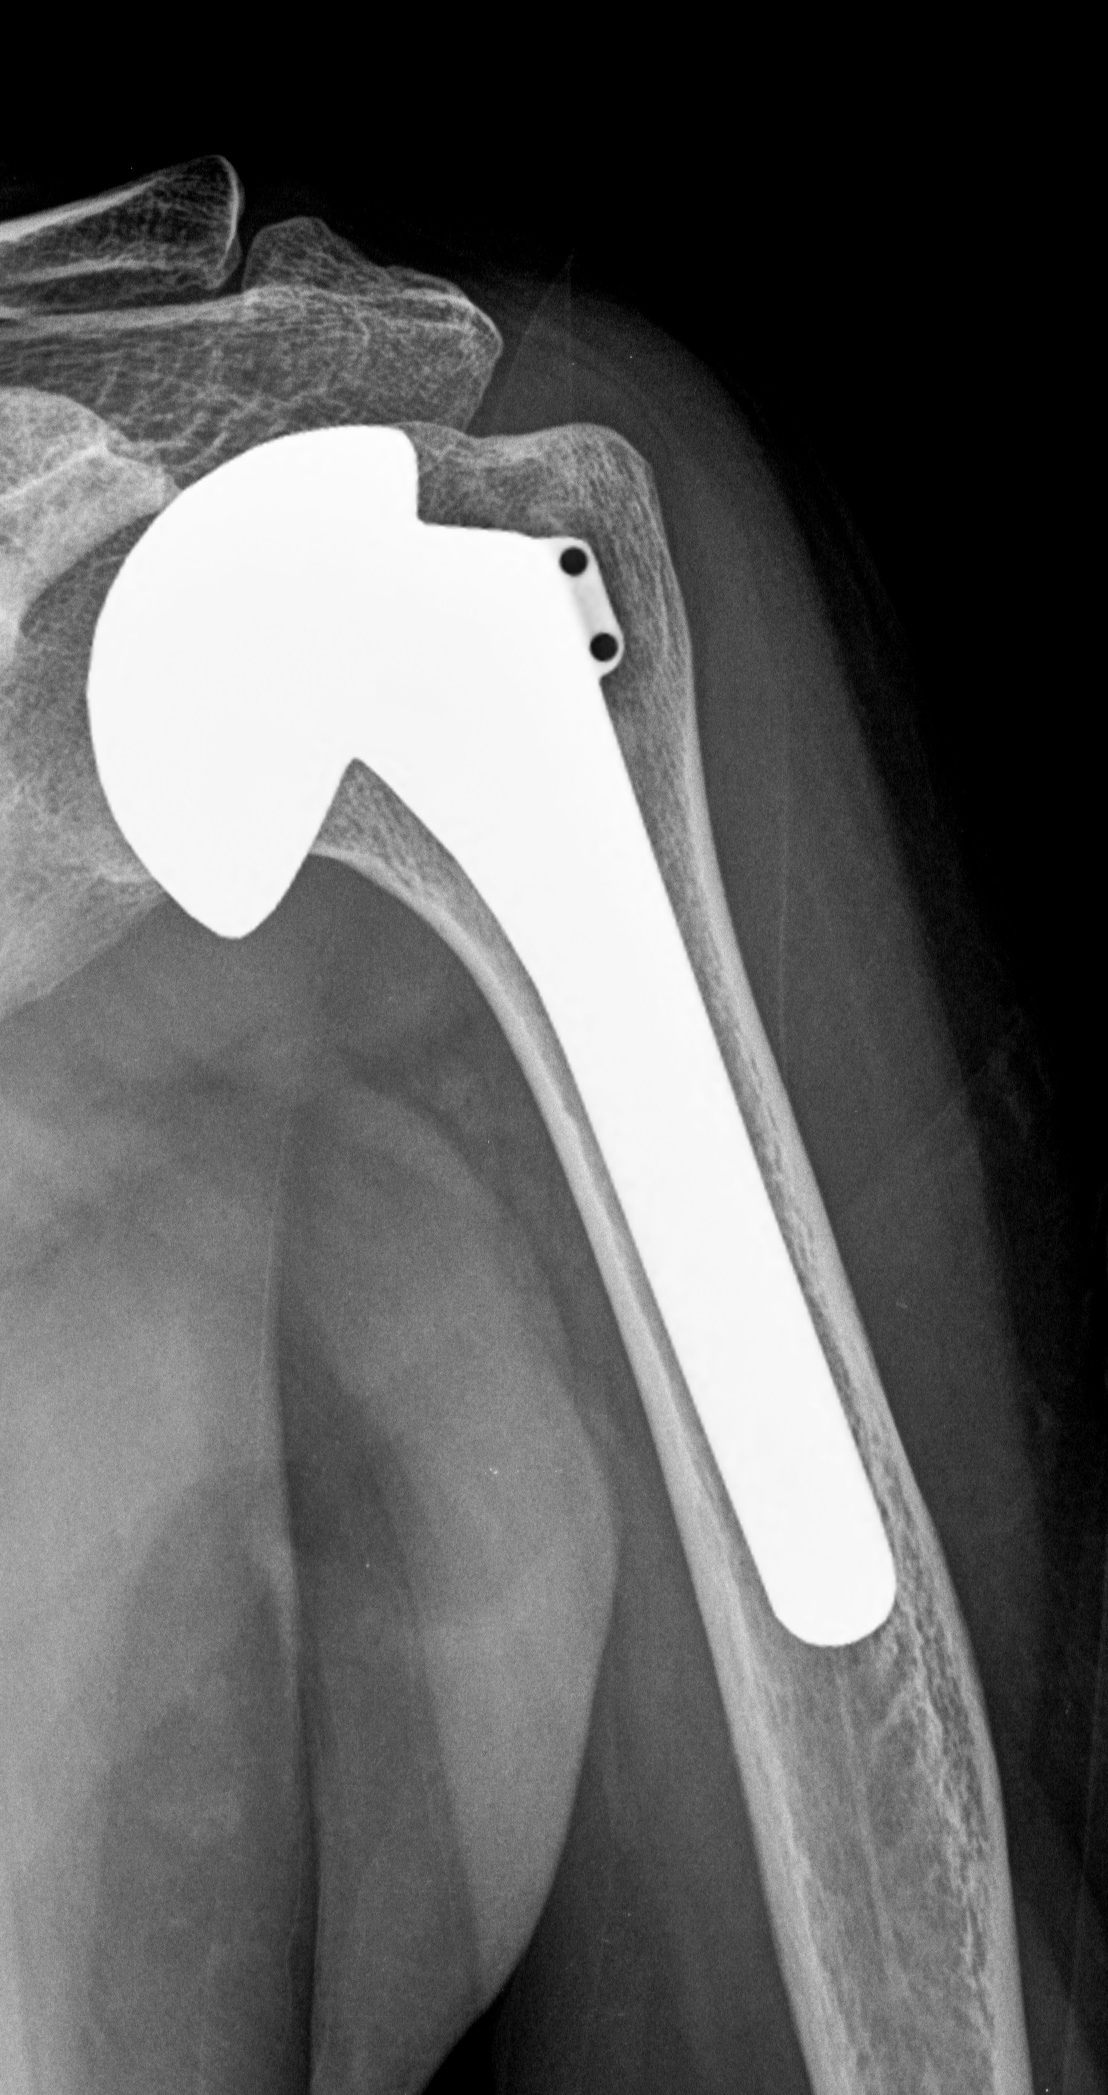Shoulder - AequalisPressfit - Tornier: (48, 389, 640, 951)
